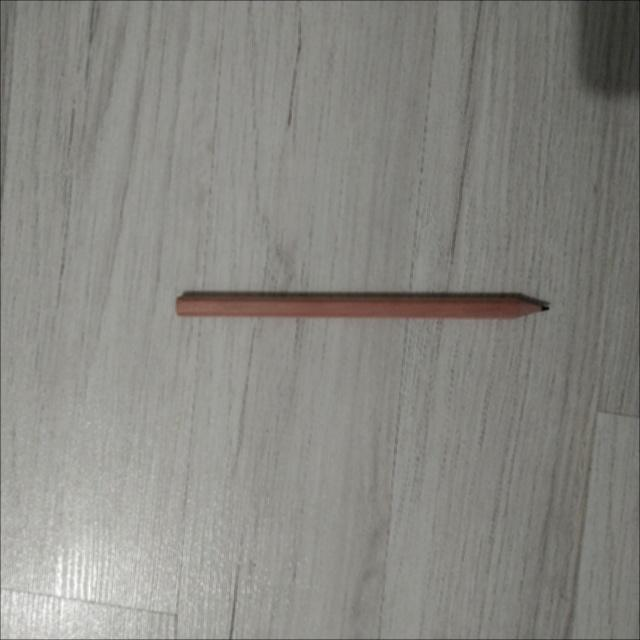pencil: (176, 294, 547, 318)
